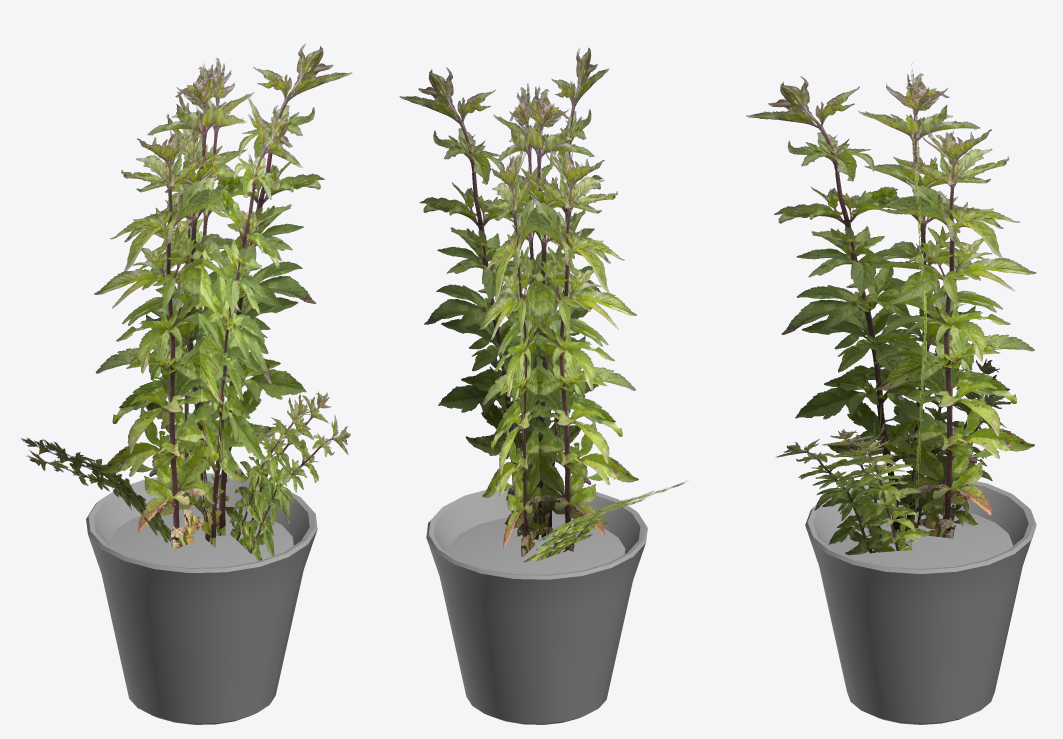
The model's file is plant_1.fbx.
3 views of the same model, side by side, from view 1: azimuth 30°, elevation 25°; view 2: azimuth 150°, elevation 25°; view 3: azimuth 270°, elevation 25° (orthographic). The views are drawn at different scales.
Visible parts, largest first — view 1: plant, pot; view 2: plant, pot; view 3: plant, pot.
Part boxes in pixels (<box>): plant: <box>21,43,352,561</box>; pot: <box>86,473,317,724</box>; plant: <box>399,47,686,562</box>; pot: <box>426,485,647,724</box>; plant: <box>746,63,1036,555</box>; pot: <box>805,475,1036,724</box>.
Bounding box in the file's own units: 70.61 × 130 × 57.63.
